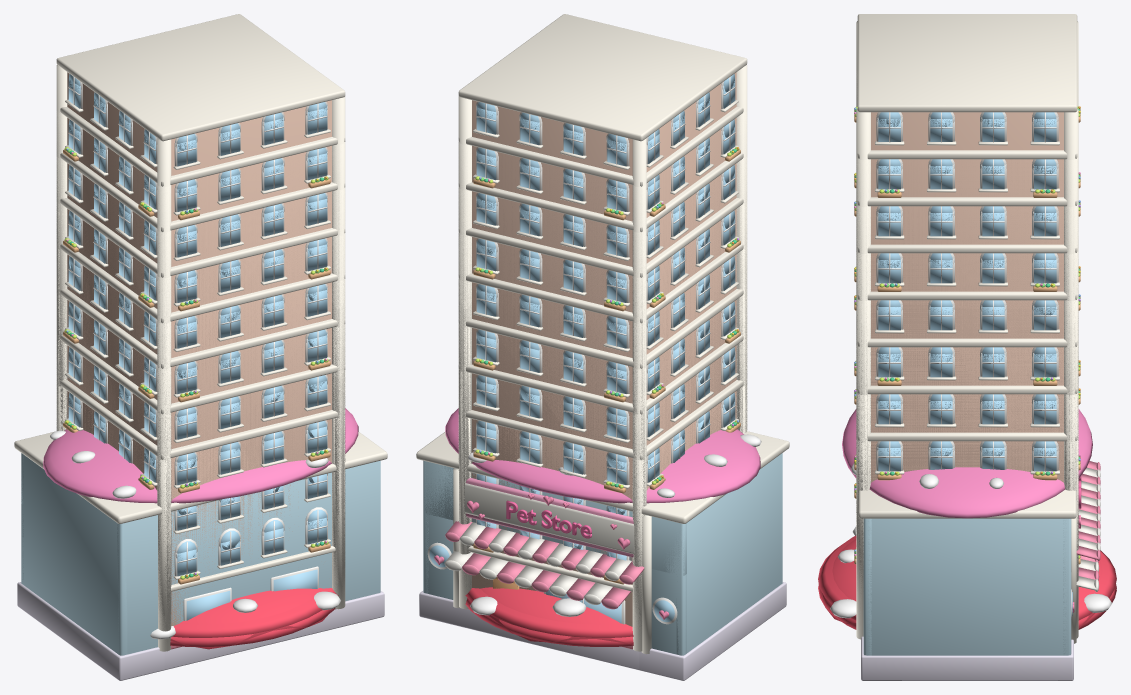
Rendered from petcity.glb.
3 renders of one model, left to right at view 1: azimuth 30°, elevation 25°; view 2: azimuth 150°, elevation 25°; view 3: azimuth 270°, elevation 25°, orthographic. The views are drawn at different scales.
Parts seen in each view (by area): view 1: PetStore, Tower10, Tower6, Tower3, Tower9, Tower8, Tower7, Tower5, Tower4, RoofCap, RoofCapFlat; view 2: PetStore, Tower10, Tower7, Tower3, Tower8, Tower6, Tower9, Tower5, Tower4, RoofCap, RoofCapFlat; view 3: PetStore, Tower10, Tower8, Tower9, Tower5, Tower4, Tower7, Tower6, Tower3, RoofCap, RoofCapFlat.
Part boxes in pixels (x1=…): PetStore: x1=14, y1=408, x2=387, y2=680; Tower10: x1=56, y1=14, x2=345, y2=651; Tower6: x1=57, y1=244, x2=345, y2=606; Tower3: x1=56, y1=380, x2=345, y2=669; Tower9: x1=56, y1=107, x2=345, y2=576; Tower8: x1=56, y1=153, x2=345, y2=595; Tower7: x1=56, y1=198, x2=345, y2=607; Tower5: x1=56, y1=289, x2=345, y2=607; Tower4: x1=57, y1=335, x2=345, y2=629; RoofCap: x1=150, y1=588, x2=340, y2=646; RoofCapFlat: x1=172, y1=588, x2=338, y2=637; PetStore: x1=416, y1=408, x2=789, y2=680; Tower10: x1=458, y1=14, x2=747, y2=651; Tower7: x1=458, y1=198, x2=747, y2=607; Tower3: x1=444, y1=380, x2=747, y2=669; Tower8: x1=458, y1=153, x2=747, y2=605; Tower6: x1=458, y1=244, x2=746, y2=607; Tower9: x1=458, y1=107, x2=747, y2=601; Tower5: x1=458, y1=289, x2=747, y2=607; Tower4: x1=458, y1=335, x2=746, y2=631; RoofCap: x1=465, y1=587, x2=633, y2=646; RoofCapFlat: x1=465, y1=588, x2=633, y2=637; PetStore: x1=842, y1=409, x2=1100, y2=680; Tower10: x1=856, y1=14, x2=1078, y2=639; Tower8: x1=856, y1=197, x2=1078, y2=485; Tower9: x1=854, y1=72, x2=1080, y2=485; Tower5: x1=854, y1=294, x2=1080, y2=482; Tower4: x1=856, y1=385, x2=1078, y2=638; Tower7: x1=854, y1=200, x2=1080, y2=489; Tower6: x1=856, y1=291, x2=1078, y2=579; Tower3: x1=854, y1=388, x2=1099, y2=639; RoofCap: x1=818, y1=526, x2=1116, y2=629; RoofCapFlat: x1=818, y1=535, x2=1116, y2=620.
Bounding box in the file's own units: 20.16 × 35.42 × 17.28.
